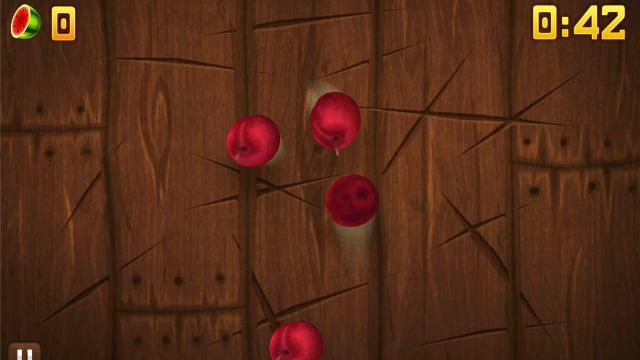fruit: (309, 90, 361, 154), (324, 173, 380, 227), (226, 114, 280, 166), (269, 320, 323, 360)
ignore: (9, 3, 43, 41)
